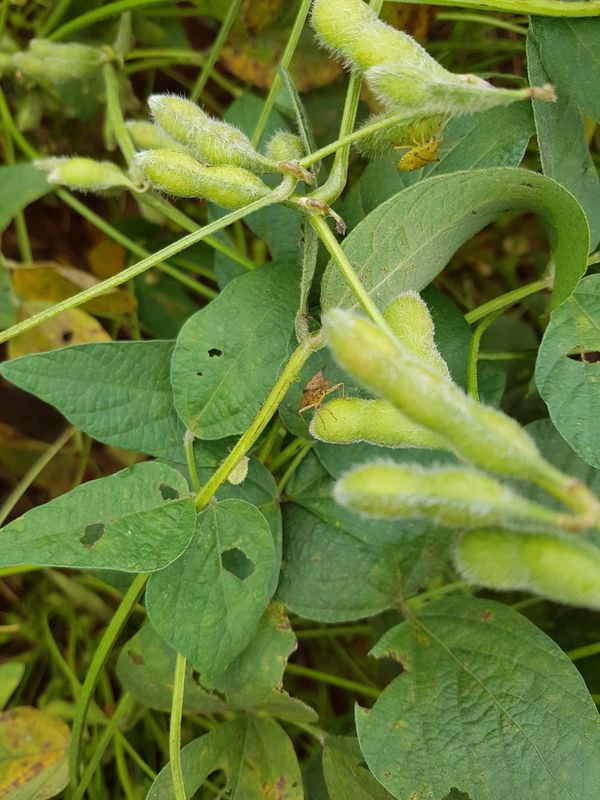Euschistus_heros_adulto: (286, 359, 360, 430)
Euschistus_heros_ninfa: (379, 117, 461, 192), (214, 441, 260, 491)
